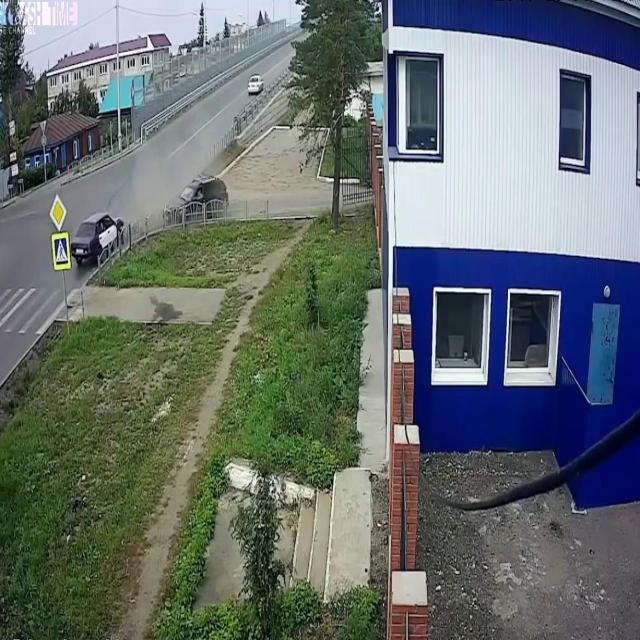accident: (62, 164, 234, 276)
